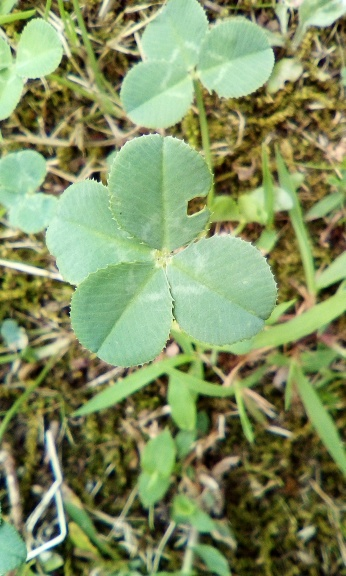4leaf: (44, 133, 279, 370)
